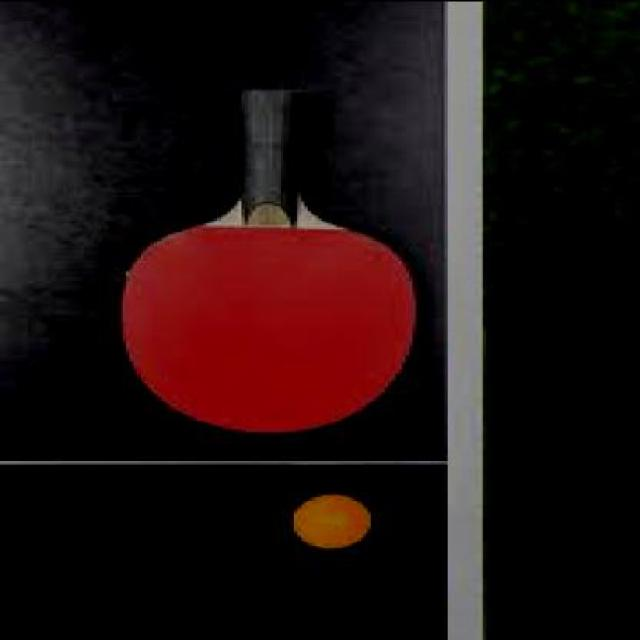table_tennis_racket: (114, 207, 421, 441)
